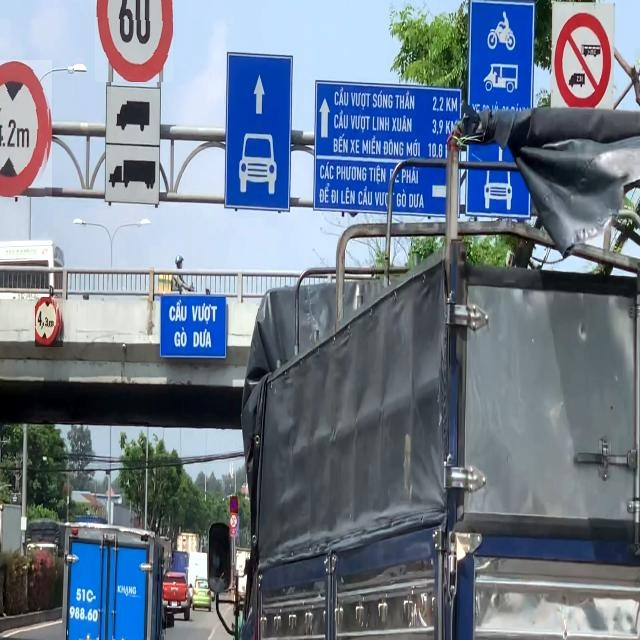bien_cam: (0, 60, 52, 197), (95, 0, 173, 82), (36, 298, 64, 348), (230, 496, 238, 513)
